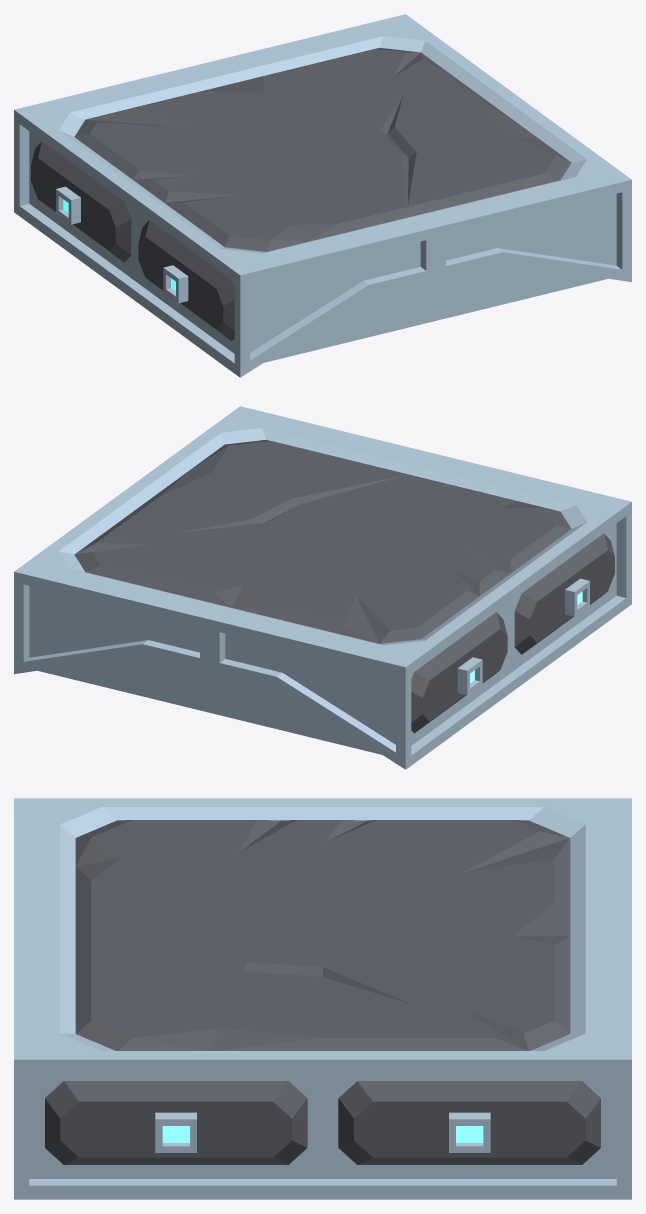
Rendered from Platform.fbx.
3 renders of one model, top to bottom at view 1: azimuth 30°, elevation 25°; view 2: azimuth 150°, elevation 25°; view 3: azimuth 270°, elevation 25°, orthographic. The views are drawn at different scales.
Visible parts, largest first — view 1: Bridge_Small; view 2: Bridge_Small; view 3: Bridge_Small.
Part boxes in pixels (x1,y1,x2,y2): Bridge_Small: (14, 14, 631, 377); Bridge_Small: (14, 406, 631, 769); Bridge_Small: (14, 798, 631, 1199).
Bounding box in the file's own units: 4.2 × 1 × 4.
